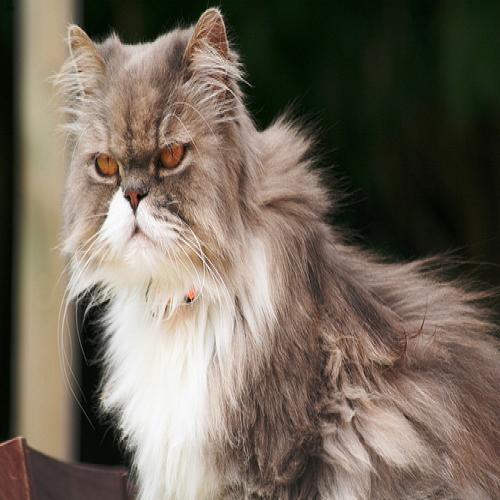persian: (55, 4, 262, 302)
